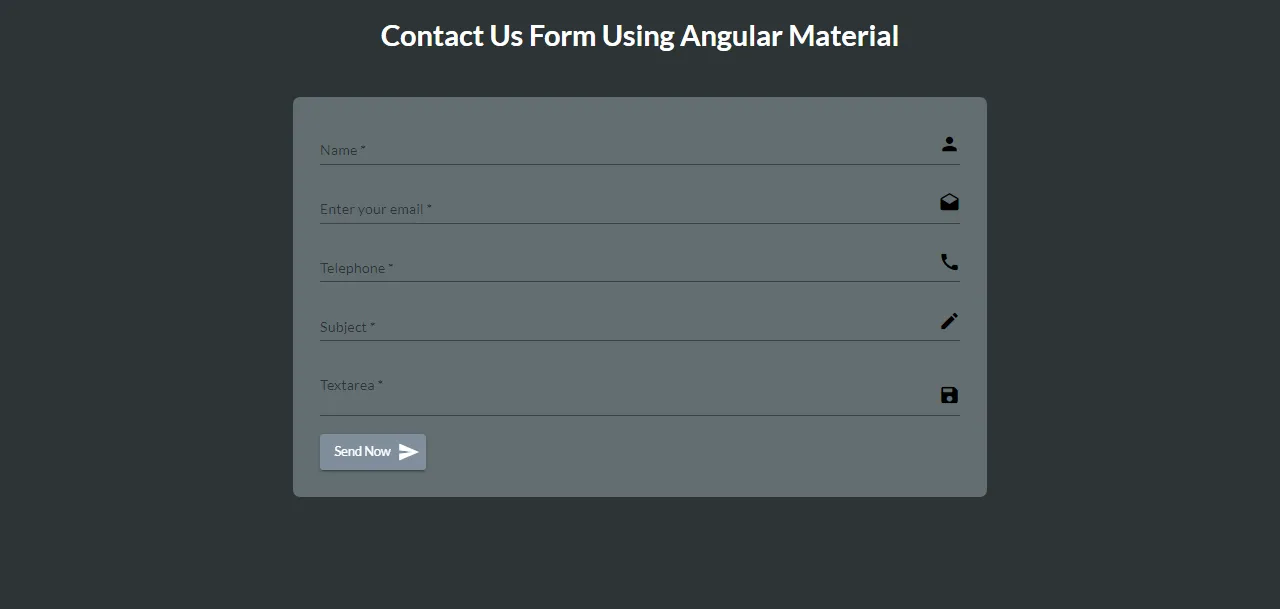button: (317, 431, 428, 473)
field_line: (318, 375, 967, 419), (319, 251, 967, 286), (317, 136, 966, 168), (317, 313, 964, 345), (315, 196, 969, 227)
